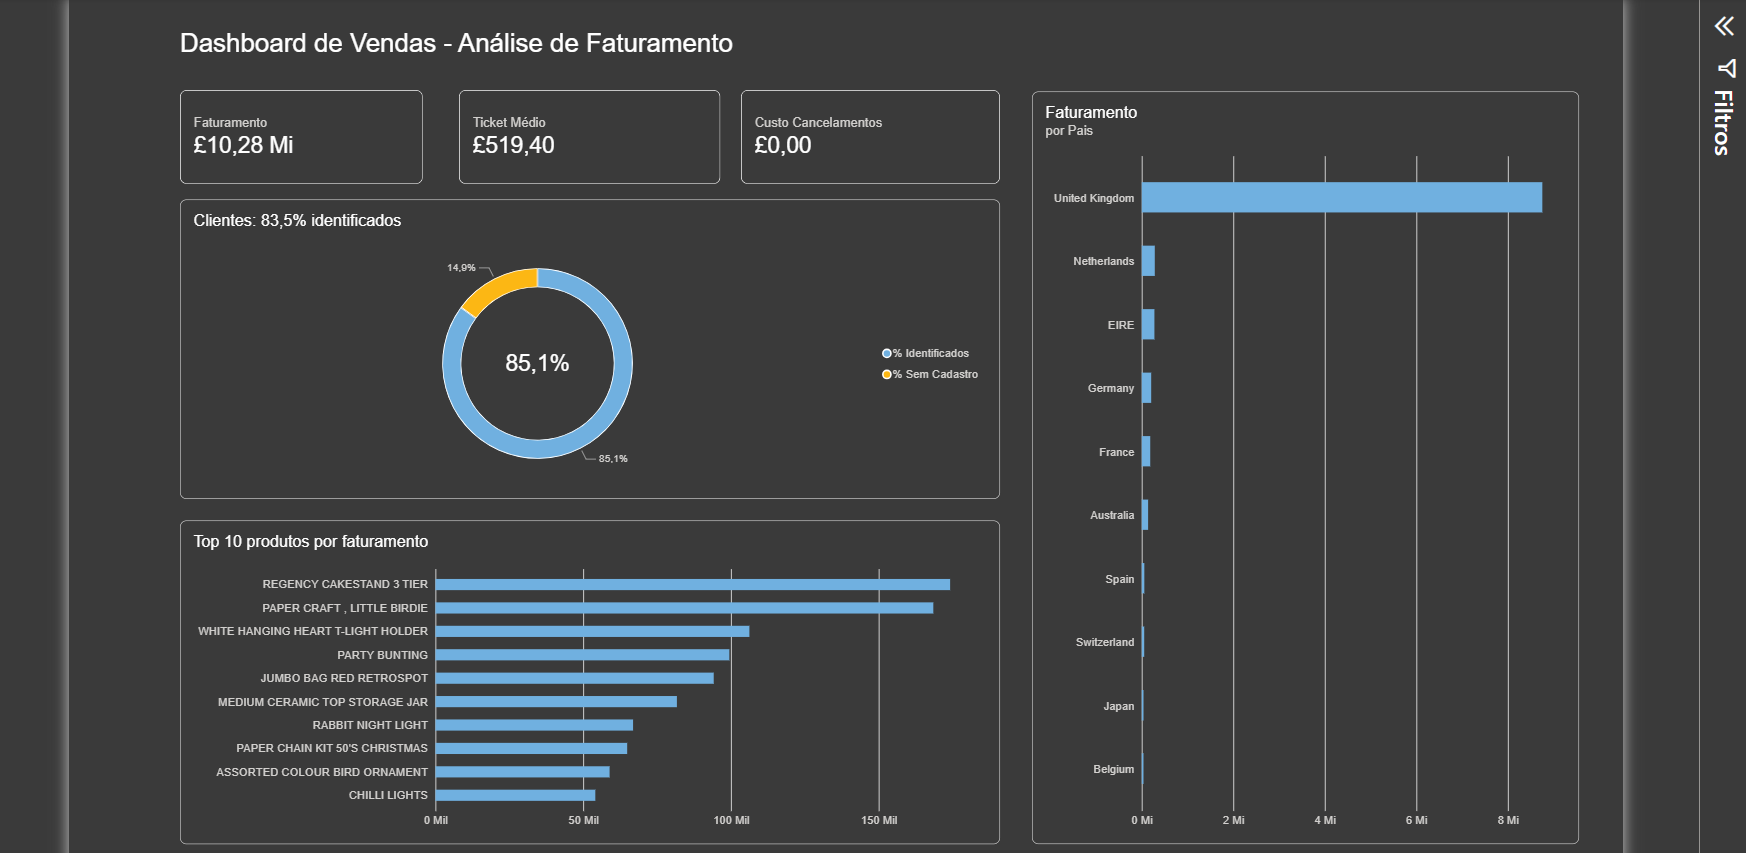

Layout of this report page (visuals, bound fields, positions):
{"tool":"powerbi","page":{"name":"[DASHBOARD] analise de vendas","canvas":[1920,1080],"ordinal":0},"visuals":[{"type":"cardVisual","fields":{"Data":["vendas.Faturamento"]},"box":[136.4,115.5,300.5,116.2],"z":0},{"type":"cardVisual","fields":{"Data":["vendas.Ticket Médio"]},"box":[482.7,115.5,323.2,116.2],"z":1000},{"type":"cardVisual","fields":{"Data":["vendas.Custo Cancelamentos"]},"box":[830,115.5,320.3,116.2],"z":2000},{"type":"donutChart","title":"Clientes: 83,5% identificados","fields":{"Y":["vendas.% Identificados","vendas.% Sem Cadastro"]},"box":[136.7,250,1013.3,370],"z":3000},{"type":"barChart","title":"Top 10 produtos por faturamento","fields":{"Category":["vendas.Descricao_Produto"],"Y":["vendas.Faturamento"]},"box":[136.7,646.7,1013.3,400],"z":4000},{"type":"barChart","fields":{"Category":["vendas.Pais"],"Y":["vendas.Faturamento"]},"box":[1190,116,676,930],"z":5000},{"type":"textbox","box":[136.7,38.3,685,45],"z":6000}]}

Visuals, with their boxes on the page's 1920x1080 design canvas (x1, y1, x2, y2). These are canvas units, not pixel positions in the 1746x853 screenshot, which may show the page scaled, cropped or inside an application window:
cardVisual - vendas.Faturamento: pyautogui.locateOnScreen(136, 116, 437, 232)
cardVisual - vendas.Ticket Médio: pyautogui.locateOnScreen(483, 116, 806, 232)
cardVisual - vendas.Custo Cancelamentos: pyautogui.locateOnScreen(830, 116, 1150, 232)
"Clientes: 83,5% identificados" donutChart: pyautogui.locateOnScreen(137, 250, 1150, 620)
"Top 10 produtos por faturamento" barChart: pyautogui.locateOnScreen(137, 647, 1150, 1047)
barChart - vendas.Pais x vendas.Faturamento: pyautogui.locateOnScreen(1190, 116, 1866, 1046)
textbox: pyautogui.locateOnScreen(137, 38, 822, 83)
